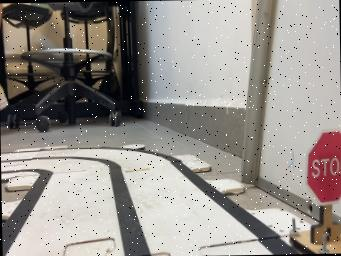stop: (289, 130, 341, 254), (289, 130, 341, 254), (289, 130, 341, 254), (289, 130, 341, 254), (289, 130, 341, 254), (289, 130, 341, 254)
street: (0, 147, 300, 256), (0, 147, 300, 256), (0, 147, 300, 256), (0, 147, 300, 256), (0, 147, 300, 256), (0, 147, 300, 256)
